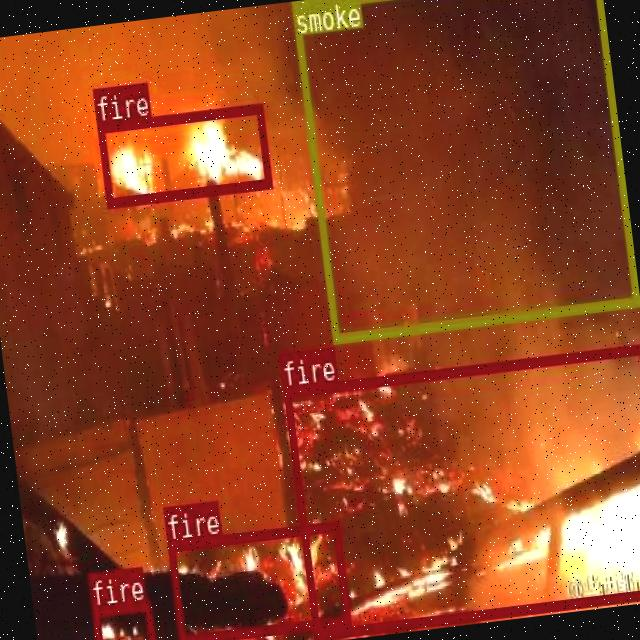fire: (281, 341, 640, 636), (166, 518, 350, 640), (96, 102, 271, 206), (90, 598, 155, 640)
smoke: (291, 0, 637, 340)
